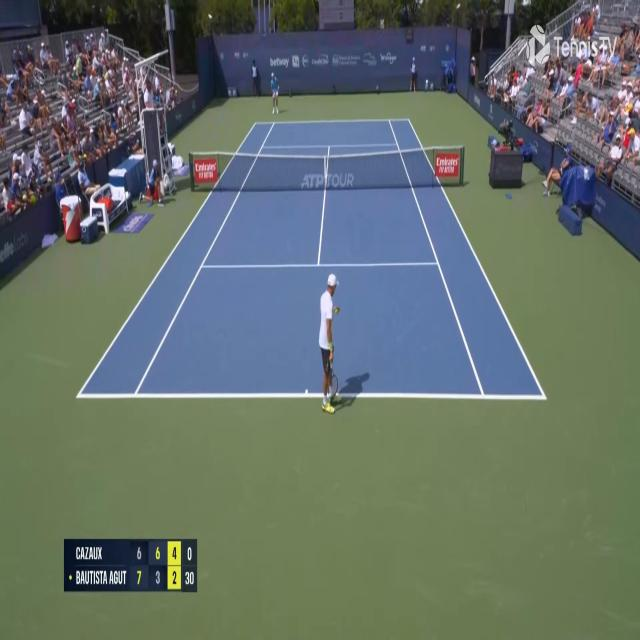tennis-player: (316, 271, 342, 416), (270, 70, 280, 115)
